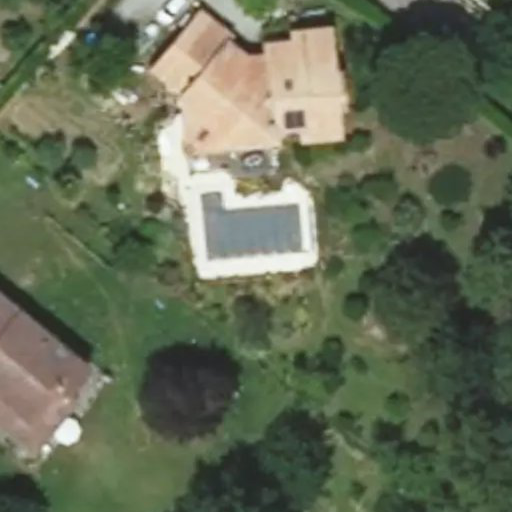pool: (207, 213, 303, 268)
